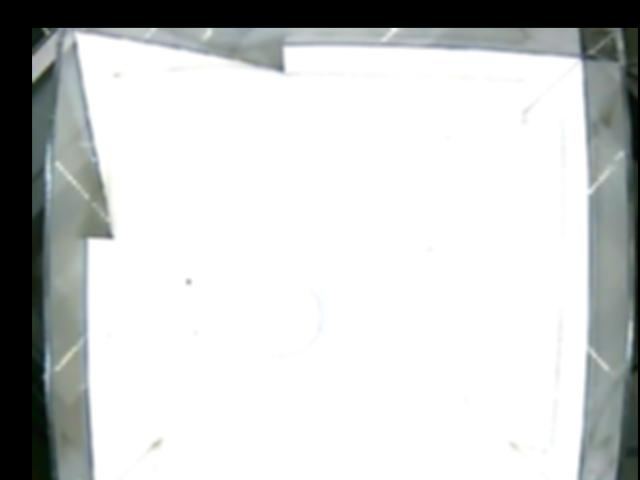Bottle: (241, 277, 321, 357)
